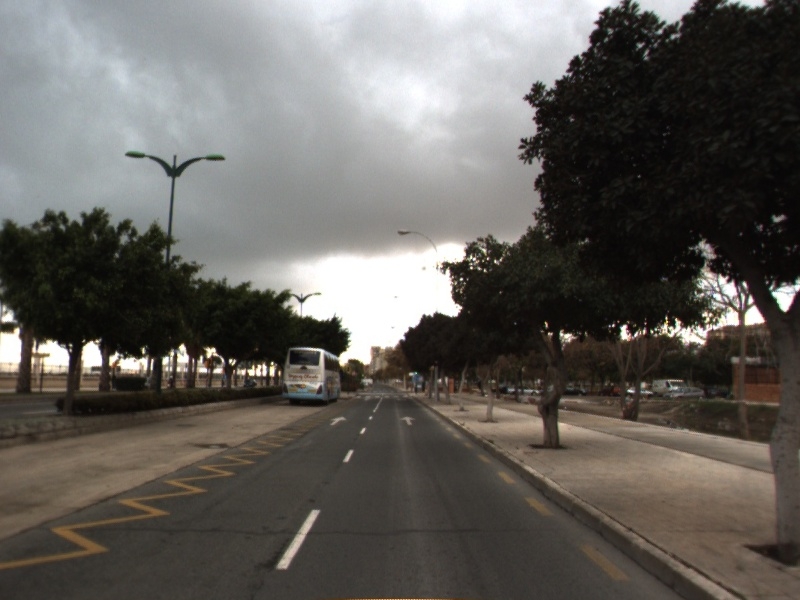STRAIGHT: (327, 414, 349, 427), (397, 414, 418, 427)
